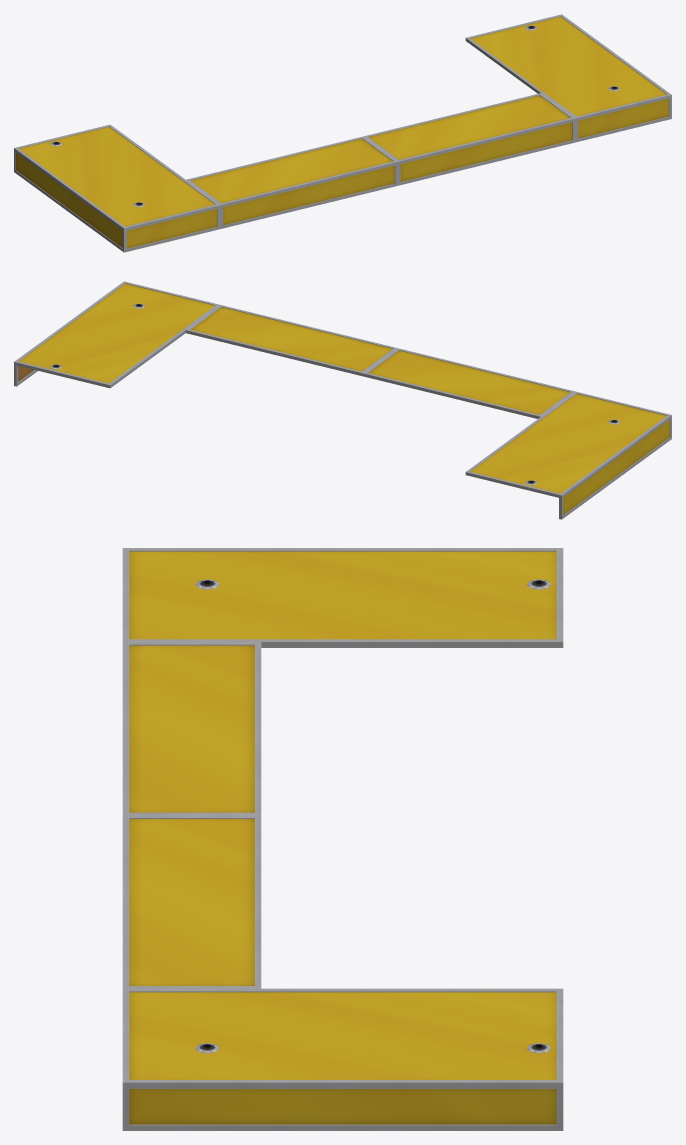
File: jsf_4P_s03_c03_t04_DX.fbx
3 renders of one model, top to bottom at view 1: azimuth 30°, elevation 25°; view 2: azimuth 150°, elevation 25°; view 3: azimuth 270°, elevation 25°, orthographic. The views are drawn at different scales.
Visible parts, largest first — view 1: jsf_4P_s03_c03_t04_DX; view 2: jsf_4P_s03_c03_t04_DX; view 3: jsf_4P_s03_c03_t04_DX.
Boxes of the visible parts, x1=… form: jsf_4P_s03_c03_t04_DX: x1=14, y1=14, x2=671, y2=252; jsf_4P_s03_c03_t04_DX: x1=14, y1=281, x2=671, y2=519; jsf_4P_s03_c03_t04_DX: x1=122, y1=548, x2=563, y2=1130.
Bounding box in the file's own units: 298 × 12.99 × 104.
